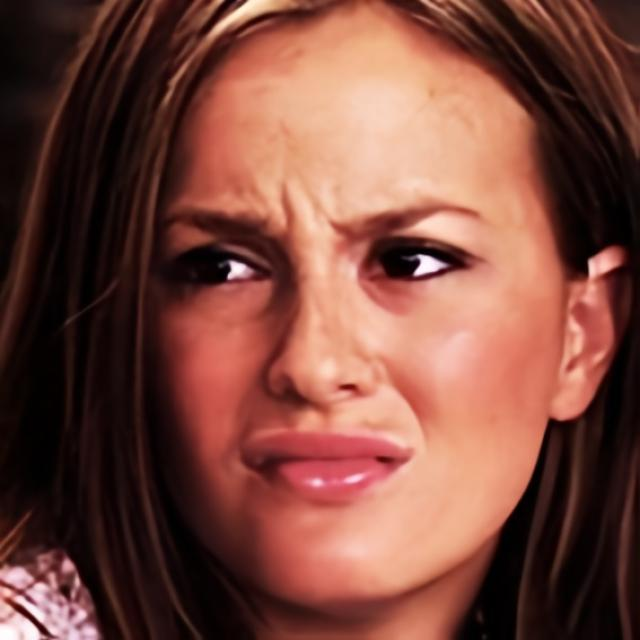disgust: (135, 0, 567, 609)
